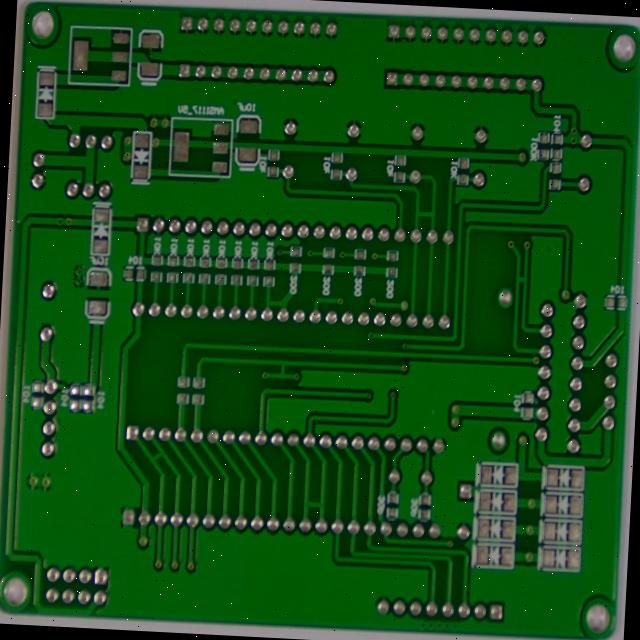short: (311, 481, 341, 509), (272, 271, 302, 296), (429, 174, 459, 195), (153, 430, 175, 456), (532, 245, 550, 265)
